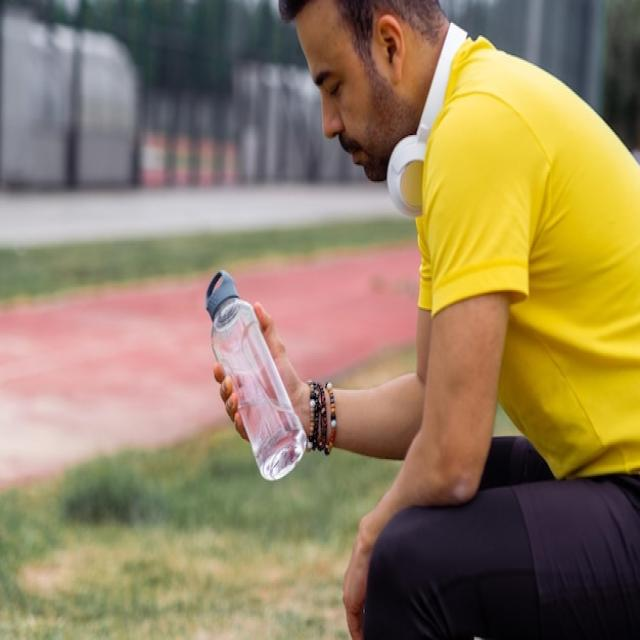Headphone: (387, 21, 469, 219)
